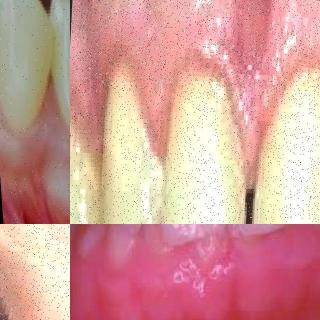Gum Swelling: (70, 37, 320, 163), (137, 241, 320, 282)
